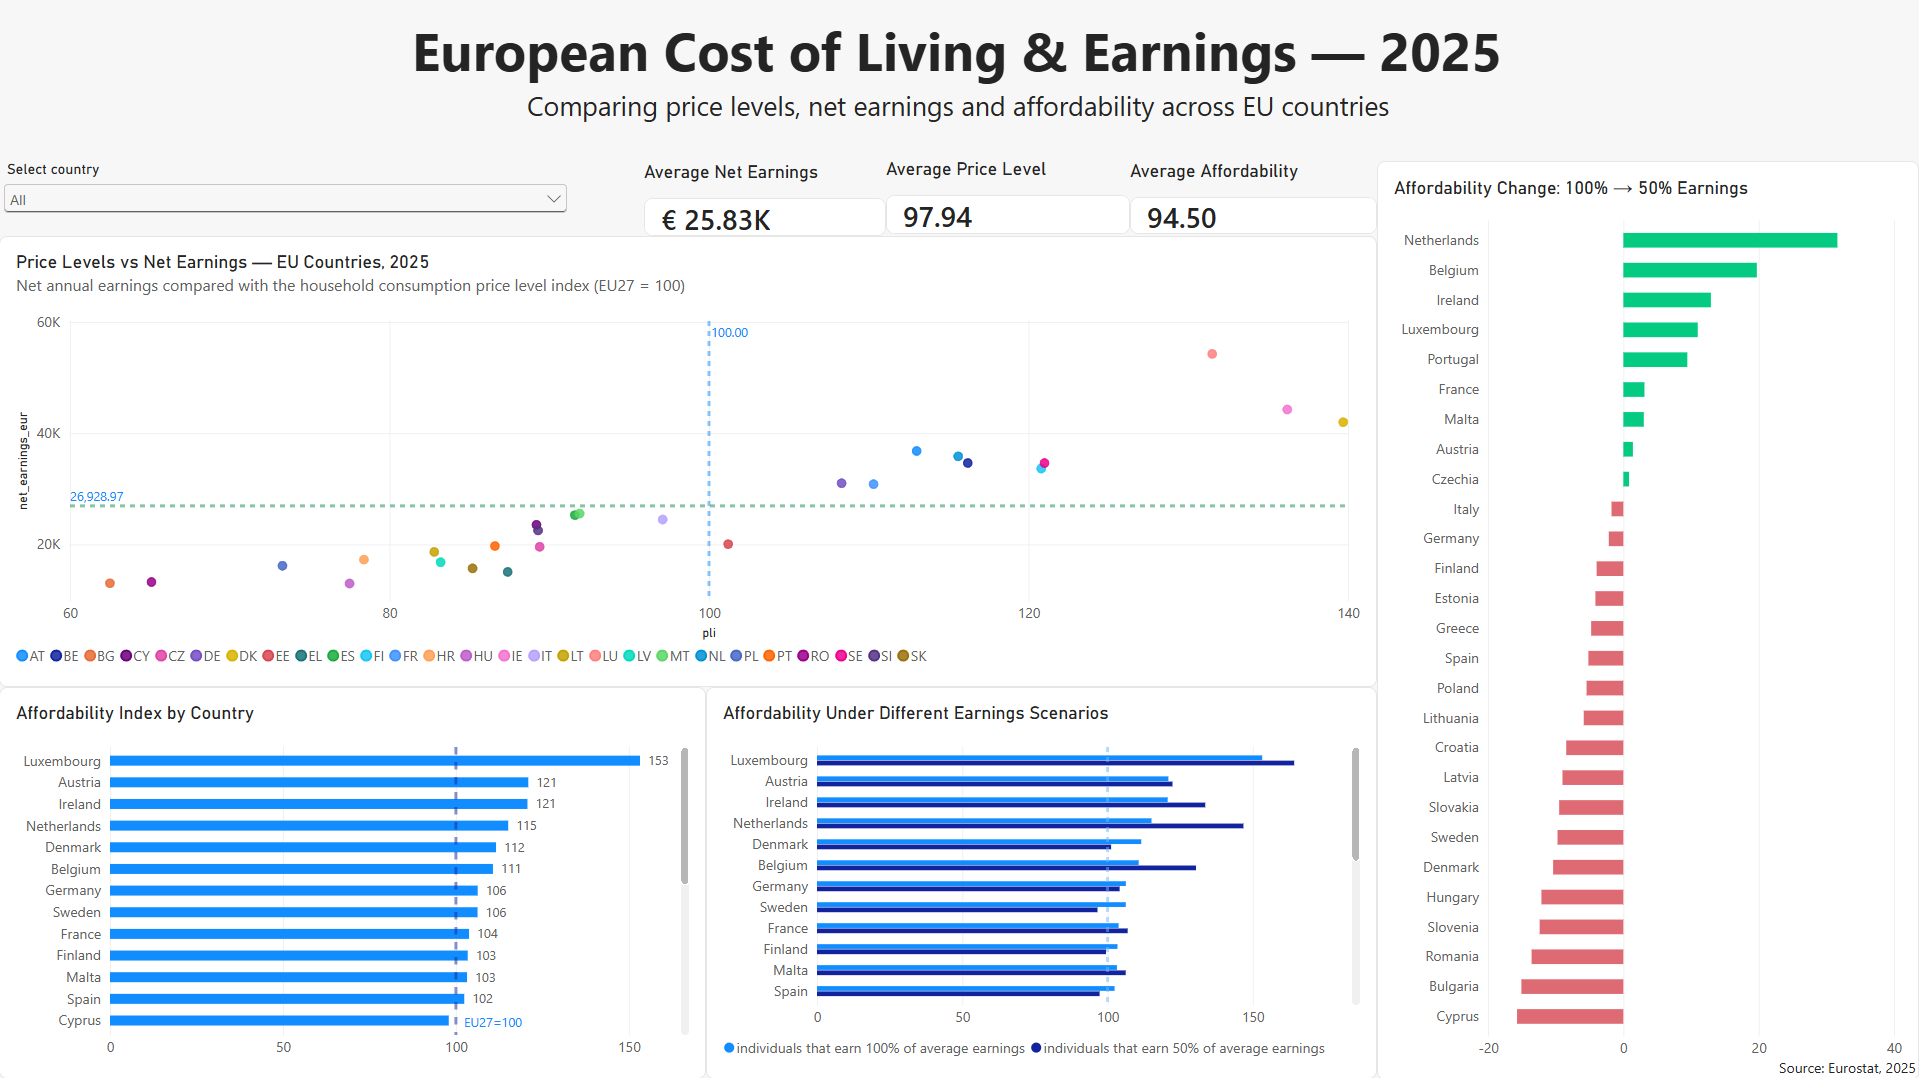

This screenshot's page, from the dashboard's own definition file:
{"tool":"powerbi","page":{"name":"Overview","canvas":[1920,1080],"ordinal":0},"visuals":[{"type":"textbox","box":[413.3,13.3,1391.7,73.3],"z":0},{"type":"cardVisual","title":"Average Net Earnings","fields":{"Data":["Avg(eu27_earnings_affordability_final.net_earnings_eur)"]},"box":[645.4,161.3,242,74.2],"z":1000},{"type":"cardVisual","title":"Average Price Level","fields":{"Data":["Avg(eu27_earnings_affordability_final.pli)"]},"box":[887.4,158.1,243.6,75.8],"z":2000},{"type":"cardVisual","title":"Average Affordability","fields":{"Data":["Avg(eu27_earnings_affordability_final.affordability_index)"]},"box":[1131,159.7,246.9,74.2],"z":3000},{"type":"clusteredBarChart","title":"Affordability Index by Country","fields":{"Category":["eu27_earnings_affordability_final.Geopolitical entity (reporting)"],"Y":["Sum(eu27_earnings_affordability_final.affordability_index)"]},"box":[0,687.3,706.7,392.1],"z":4000},{"type":"scatterChart","title":"Price Levels vs Net Earnings — EU Countries, 2025","fields":{"Series":["eu27_earnings_affordability_final.geo"],"X":["eu27_earnings_affordability_final.pli"],"Y":["eu27_earnings_affordability_final.net_earnings_eur"]},"box":[0,235.6,1377.9,451.8],"z":5000},{"type":"clusteredBarChart","title":"Affordability Under Different Earnings Scenarios","fields":{"Category":["eu27_earnings_affordability_final.Geopolitical entity (reporting)"],"Y":["Sum(eu27_earnings_affordability_final.affordability_index)","Sum(eu27_earnings_affordability_final.affordability_index_50)"]},"box":[706.7,687.3,671.2,392.1],"z":6000},{"type":"clusteredBarChart","title":"Affordability Change: 100% → 50% Earnings","fields":{"Category":["eu27_earnings_affordability_final.Geopolitical entity (reporting)"],"Y":["Sum(eu27_earnings_affordability_final.affordability_change)"]},"box":[1377.9,161.3,541.7,918.3],"z":7000},{"type":"slicer","title":"Select country","fields":{"Values":["eu27_earnings_affordability_final.Geopolitical entity (reporting)"]},"box":[0,161.3,572.8,72.6],"z":8000},{"type":"textbox","box":[528.3,86.7,941.7,60],"z":9000},{"type":"textbox","box":[1780,1058.3,140,20],"z":9001}]}

Visuals, with their boxes in screenshot pixels (x1, y1, x2, y2), scaled from the page's 1920x1080 canvas onto the 1919x1078 screenshot:
textbox: (413, 13, 1804, 86)
"Average Net Earnings" cardVisual: (645, 161, 887, 235)
"Average Price Level" cardVisual: (887, 158, 1130, 233)
"Average Affordability" cardVisual: (1130, 159, 1377, 233)
"Affordability Index by Country" clusteredBarChart: (0, 686, 706, 1077)
"Price Levels vs Net Earnings — EU Countries, 2025" scatterChart: (0, 235, 1377, 686)
"Affordability Under Different Earnings Scenarios" clusteredBarChart: (706, 686, 1377, 1077)
"Affordability Change: 100% → 50% Earnings" clusteredBarChart: (1377, 161, 1918, 1077)
"Select country" slicer: (0, 161, 573, 233)
textbox: (528, 87, 1469, 146)
textbox: (1779, 1056, 1918, 1076)
